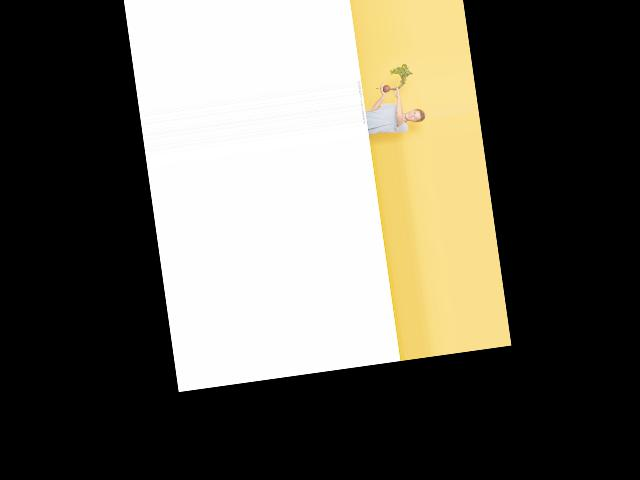beet: (373, 62, 414, 93)
